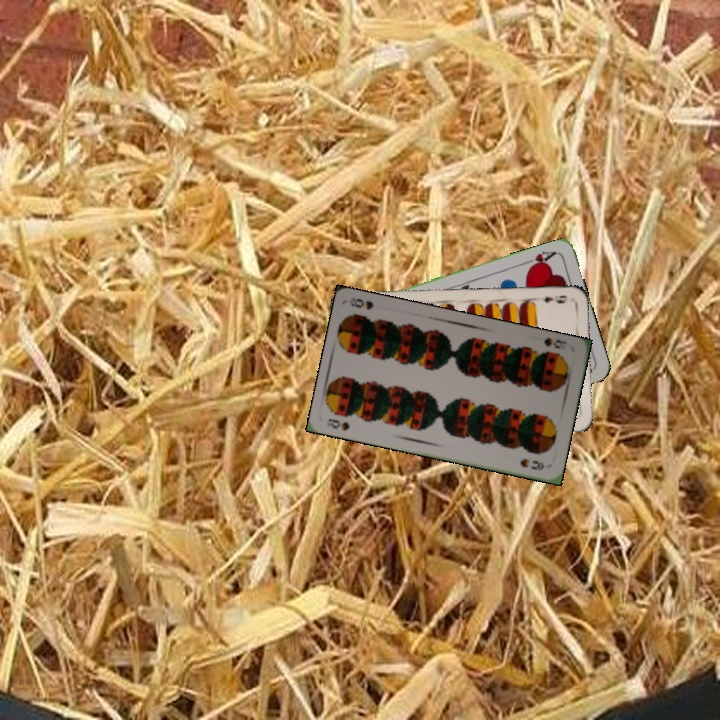E9: (537, 291, 571, 306)
HA: (520, 247, 559, 272)
S8: (322, 414, 352, 433), (540, 334, 569, 351)
